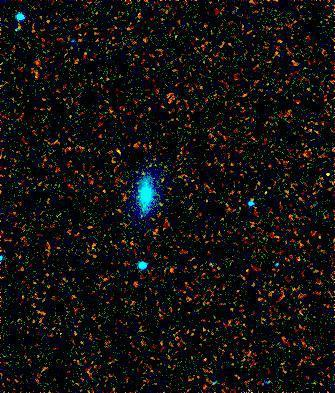star: (21, 55, 51, 85)
